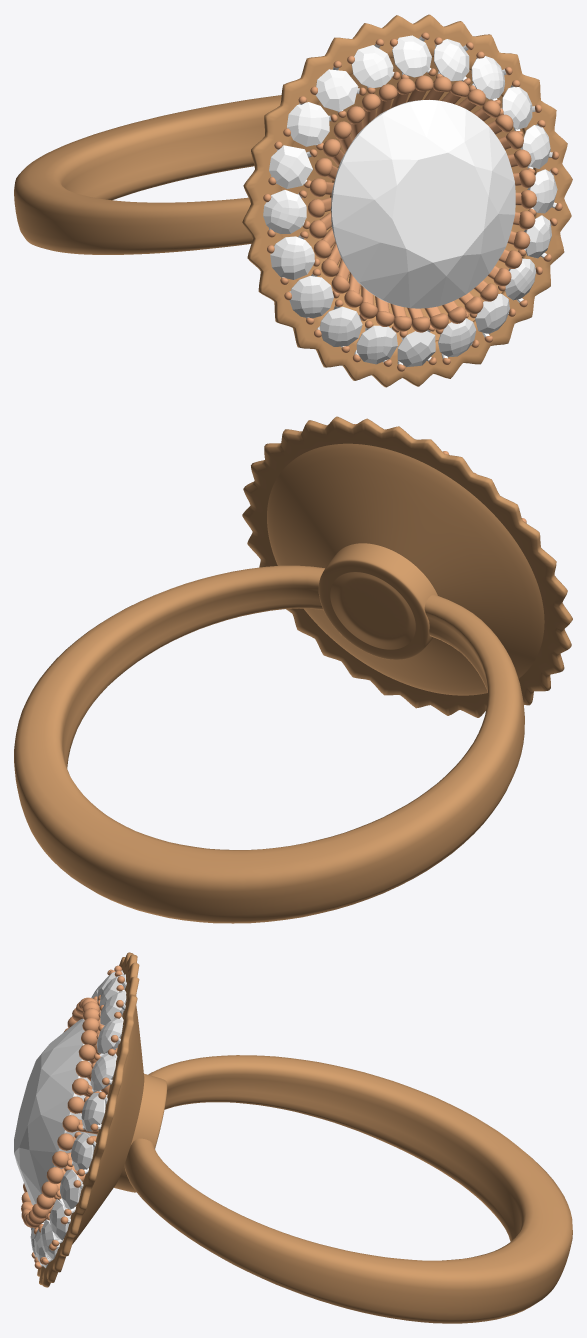
Rendered from yakut-yuzuk.glb.
The picture shows the model from 3 angles, top to bottom: view 1: azimuth 30°, elevation 25°; view 2: azimuth 150°, elevation 25°; view 3: azimuth 270°, elevation 25°; orthographic projection. The views are drawn at different scales.
Visible parts, largest first — view 1: diamond, Flower gold Ring, Diamond_smaal, gold star, gold2, gold3; view 2: Flower gold Ring, gold star, gold1; view 3: Flower gold Ring, gold star, diamond, Diamond_smaal, gold2, gold1, gold3.
Part boxes in pixels (bbox=[...]): diamond: bbox=[331, 99, 515, 308]; Flower gold Ring: bbox=[14, 95, 330, 254]; Diamond_smaal: bbox=[263, 35, 557, 367]; gold star: bbox=[242, 14, 572, 387]; gold2: bbox=[308, 75, 536, 332]; gold3: bbox=[263, 32, 562, 371]; Flower gold Ring: bbox=[14, 565, 524, 923]; gold star: bbox=[242, 416, 572, 717]; gold1: bbox=[318, 543, 437, 659]; Flower gold Ring: bbox=[124, 1055, 572, 1323]; gold star: bbox=[37, 952, 144, 1287]; diamond: bbox=[14, 1018, 107, 1205]; Diamond_smaal: bbox=[30, 970, 126, 1268]; gold2: bbox=[21, 997, 117, 1227]; gold1: bbox=[114, 1073, 167, 1192]; gold3: bbox=[31, 965, 124, 1268].
Size of the model in its own units: 0.0237 by 0.0166 by 0.0279.
